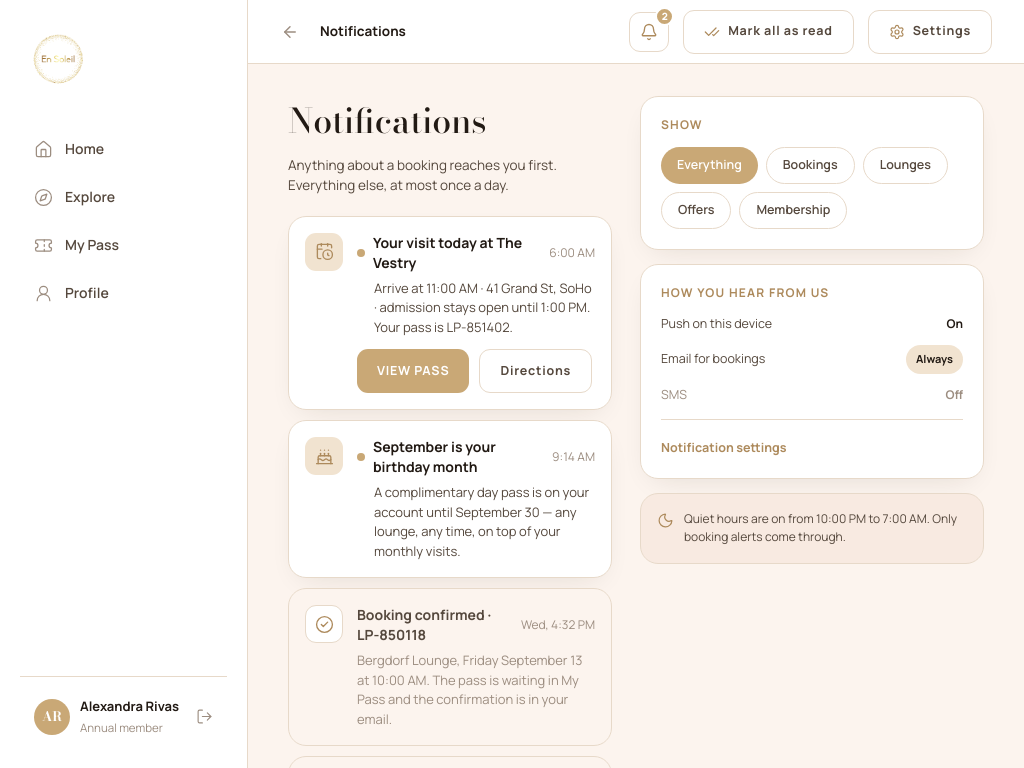
Test case: centro de notificaciones › filtra por categoría desde el rail
Click the button "Lounges": (905, 165) [863,147,948,184]
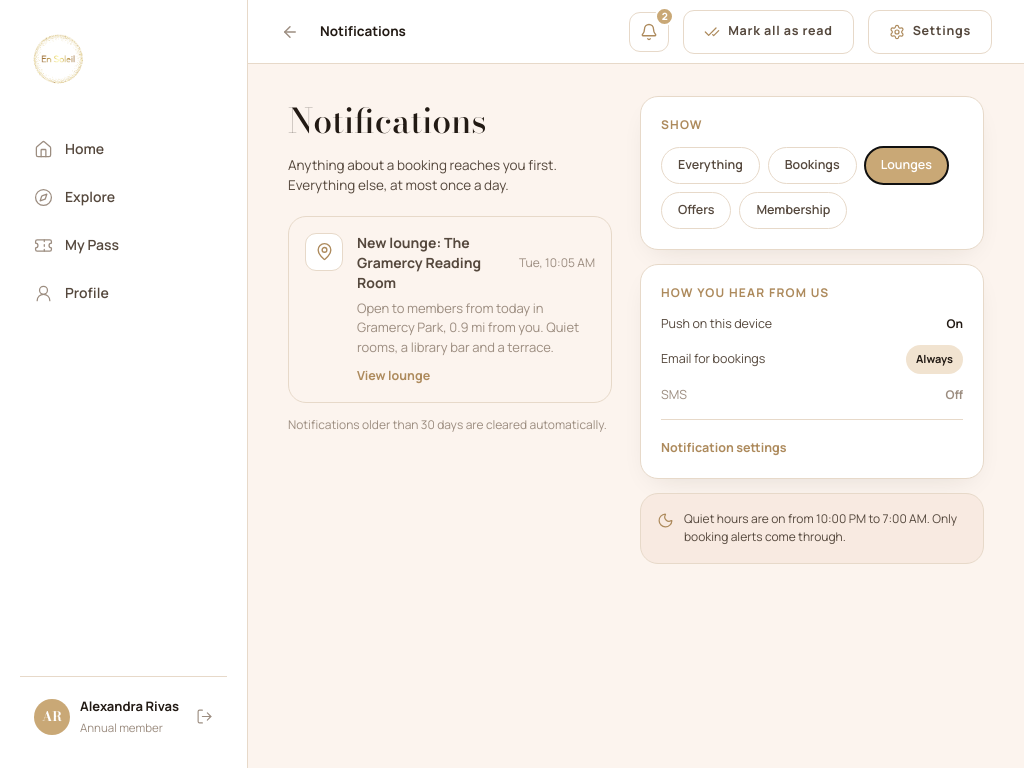
Check: the text "New lounge: The Gramercy Reading Room" is shown, box [357,232,481,292]
Check: the text "Your visit today at The Vestry" is gone
